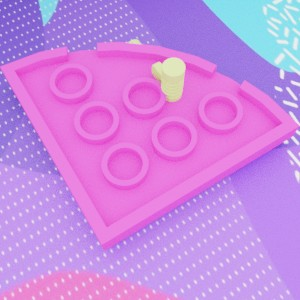lego: (0, 42, 299, 250), (123, 39, 194, 124)
